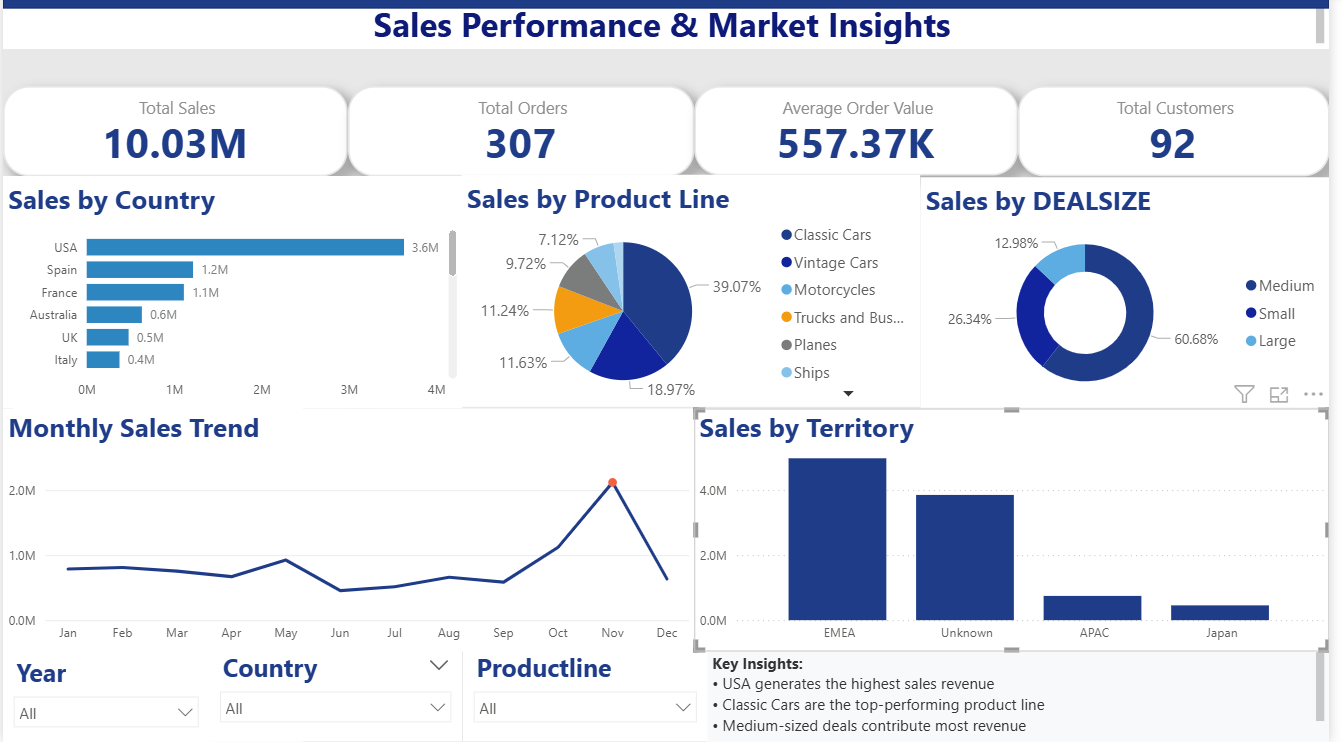

Layout of this report page (visuals, bound fields, positions):
{"tool":"powerbi","page":{"name":"Page 1","canvas":[1280,720],"ordinal":0},"visuals":[{"type":"textbox","box":[9.7,196.6,279.9,83.2],"z":0},{"type":"textbox","box":[10,290,280,280],"z":1000},{"type":"textbox","box":[10,570,280,150],"z":2000},{"type":"textbox","box":[0,0,1280.3,51.2],"z":3000},{"type":"card","title":"Total Sales","fields":{"Values":["Sum(cleaned_sales_data.SALES)"]},"box":[0,86.7,333,86.9],"z":4000},{"type":"card","title":"Total Orders","fields":{"Values":["Count(cleaned_sales_data.ORDERNUMBER)"]},"box":[333,86.7,334.2,86.9],"z":5000},{"type":"card","title":"Average Order Value","fields":{"Values":["cleaned_sales_data.Avg order value"]},"box":[667.1,86.7,312.5,86.7],"z":6000},{"type":"card","title":"Total Customers","fields":{"Values":["Count(cleaned_sales_data.CUSTOMERNAME)"]},"box":[979.6,86.7,300.4,86.9],"z":7000},{"type":"clusteredBarChart","title":"Sales by Country","fields":{"Category":["cleaned_sales_data.COUNTRY"],"Y":["Sum(cleaned_sales_data.SALES)"]},"box":[0,173.5,443.3,224],"z":8000},{"type":"pieChart","title":"Sales by Product Line","fields":{"Category":["cleaned_sales_data.PRODUCTLINE"],"Y":["Sum(cleaned_sales_data.SALES)"]},"box":[443,173,442,224],"z":9000},{"type":"donutChart","title":"Sales by DEALSIZE","fields":{"Category":["cleaned_sales_data.DEALSIZE"],"Y":["Sum(cleaned_sales_data.SALES)"]},"box":[885,175.2,395,222.4],"z":10000},{"type":"lineChart","title":"Monthly Sales Trend","fields":{"Category":["cleaned_sales_data.month"],"Y":["Sum(cleaned_sales_data.SALES)"]},"box":[0,397.6,667.1,234.5],"z":11000},{"type":"clusteredColumnChart","title":"Sales by Territory","fields":{"Category":["cleaned_sales_data.TERRITORY"],"Y":["Sum(cleaned_sales_data.SALES)"]},"box":[667.1,397.6,613.2,234.5],"z":12000},{"type":"slicer","fields":{"Values":["cleaned_sales_data.year"]},"box":[0,627.7,199.6,92.2],"z":13000},{"type":"slicer","fields":{"Values":["cleaned_sales_data.COUNTRY"]},"box":[199.7,627.7,243.7,92.2],"z":14000},{"type":"slicer","fields":{"Values":["cleaned_sales_data.PRODUCTLINE"]},"box":[443.4,627.7,235.8,91.6],"z":15000},{"type":"textbox","box":[679.2,628,601.1,91.6],"z":16000},{"type":"shape","box":[0,0,1280,12.1],"z":17000}]}

Visuals, with their boxes in screenshot pixels (x1, y1, x2, y2), scaled from the page's 1280x720 canvas onto the 1342x742 screenshot:
textbox: BBox(10, 203, 304, 288)
textbox: BBox(10, 299, 304, 587)
textbox: BBox(10, 587, 304, 741)
textbox: BBox(0, 0, 1341, 53)
"Total Sales" card: BBox(0, 89, 349, 179)
"Total Orders" card: BBox(349, 89, 700, 179)
"Average Order Value" card: BBox(699, 89, 1027, 179)
"Total Customers" card: BBox(1027, 89, 1341, 179)
"Sales by Country" clusteredBarChart: BBox(0, 179, 465, 410)
"Sales by Product Line" pieChart: BBox(464, 178, 928, 409)
"Sales by DEALSIZE" donutChart: BBox(928, 181, 1341, 410)
"Monthly Sales Trend" lineChart: BBox(0, 410, 699, 651)
"Sales by Territory" clusteredColumnChart: BBox(699, 410, 1341, 651)
slicer - cleaned_sales_data.year: BBox(0, 647, 209, 741)
slicer - cleaned_sales_data.COUNTRY: BBox(209, 647, 465, 741)
slicer - cleaned_sales_data.PRODUCTLINE: BBox(465, 647, 712, 741)
textbox: BBox(712, 647, 1341, 741)
shape: BBox(0, 0, 1341, 12)
